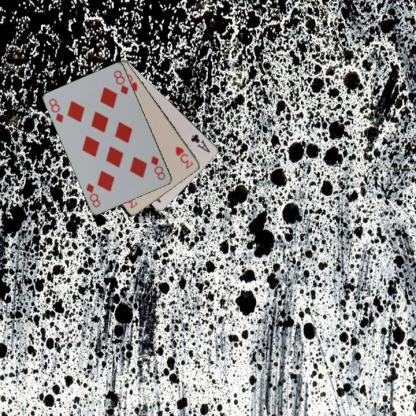3h: (172, 143, 194, 170)
8d: (46, 96, 66, 124), (148, 153, 167, 182)
Ac: (188, 131, 212, 154)
